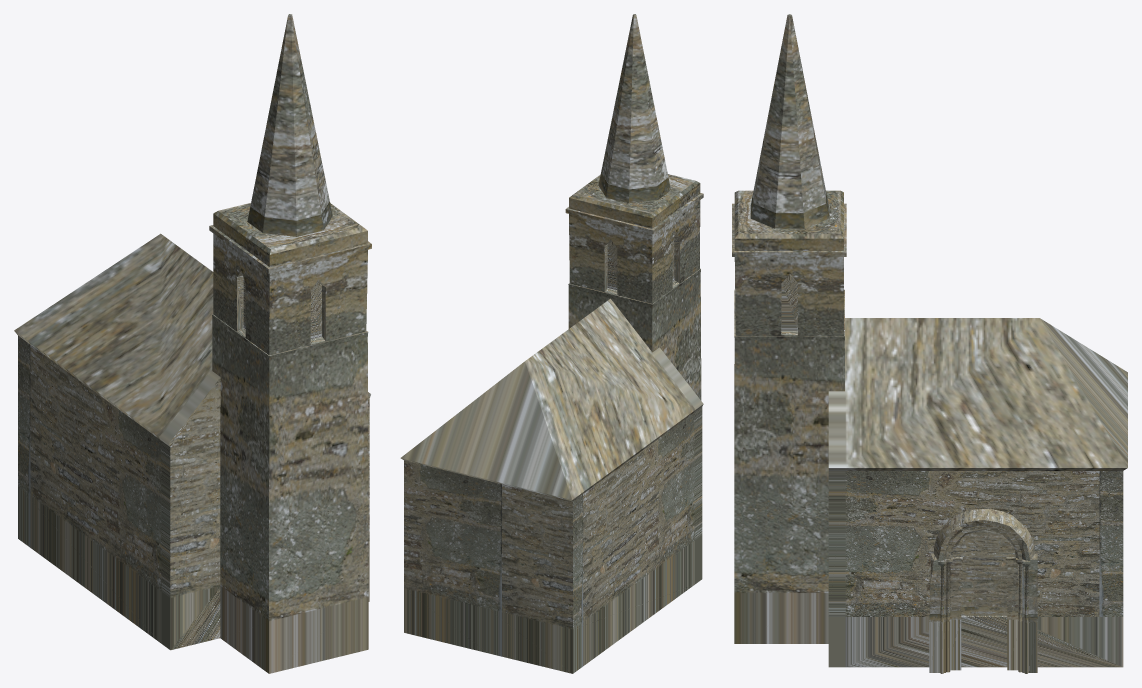
Rendered from Church.glb.
The picture shows the model from 3 angles, left to right: view 1: azimuth 30°, elevation 25°; view 2: azimuth 150°, elevation 25°; view 3: azimuth 270°, elevation 25°; orthographic projection. The views are drawn at different scales.
Parts seen in each view (by area): view 1: walls-col, roof-col; view 2: walls-col, roof-col; view 3: walls-col, roof-col, door-col.
Boxes of the visible parts, x1,y1,x2,y2 form: walls-col: (14,14,371,673); roof-col: (14,233,220,443); walls-col: (401,14,703,673); roof-col: (400,299,703,499); walls-col: (732,14,1127,667); roof-col: (828,318,1127,467); door-col: (929,509,1037,673).
Size of the model in its own units: 4.36 by 12.02 by 7.12.
2 materials, 2 textured.
